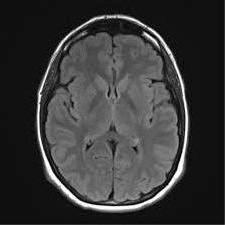Normal_Brain: (1, 1, 225, 225)
